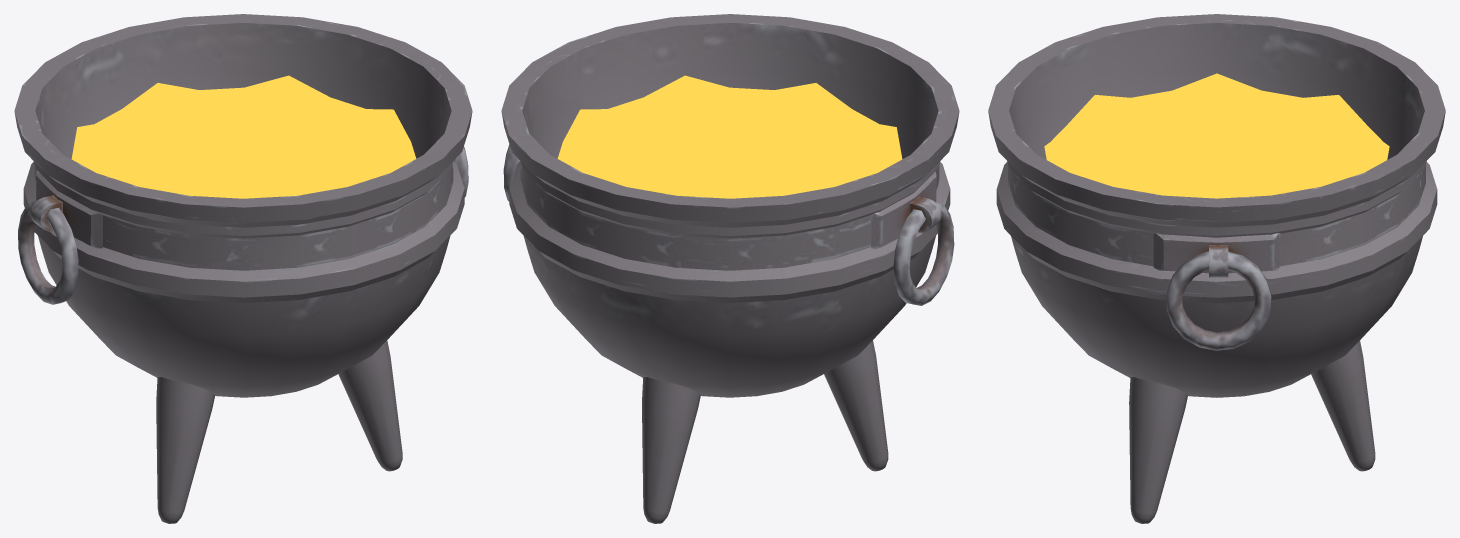
File: brazier-BNh-s_oa.glb
The picture shows the model from 3 angles, left to right: view 1: azimuth 30°, elevation 25°; view 2: azimuth 150°, elevation 25°; view 3: azimuth 270°, elevation 25°; orthographic projection.
Visible parts, largest first — view 1: Cauldron, coals; view 2: Cauldron, coals; view 3: Cauldron, coals.
Boxes of the visible parts, x1=… form: Cauldron: x1=14, y1=14, x2=472, y2=523; coals: x1=71, y1=75, x2=416, y2=198; Cauldron: x1=501, y1=14, x2=959, y2=523; coals: x1=557, y1=75, x2=902, y2=198; Cauldron: x1=988, y1=14, x2=1445, y2=523; coals: x1=1044, y1=73, x2=1389, y2=198.
Bounding box in the file's own units: 1.78 × 1.47 × 1.7.
Materials: 2 (1 with a texture image).
